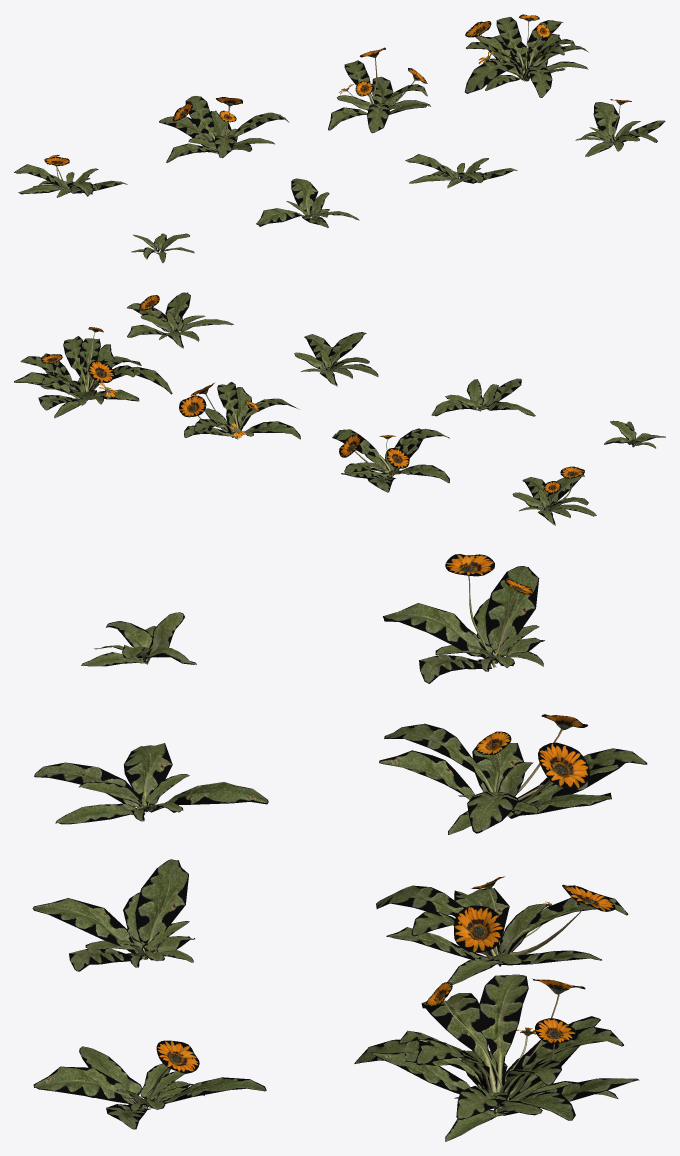
File: flower_gazania.glb
3 renders of one model, top to bottom at view 1: azimuth 30°, elevation 25°; view 2: azimuth 150°, elevation 25°; view 3: azimuth 270°, elevation 25°, orthographic. The views are drawn at different scales.
Visible parts, largest first — view 1: flower_gazania_h_LOD0, flower_gazania_f_LOD0, flower_gazania_g_LOD0, flower_gazania_d_LOD0, flower_gazania_b_LOD0, flower_gazania_e_LOD0, flower_gazania_c_LOD0, flower_gazania_a_LOD0; view 2: flower_gazania_h_LOD0, flower_gazania_g_LOD0, flower_gazania_f_LOD0, flower_gazania_d_LOD0, flower_gazania_e_LOD0, flower_gazania_c_LOD0, flower_gazania_b_LOD0, flower_gazania_a_LOD0; view 3: flower_gazania_h_LOD0, flower_gazania_f_LOD0, flower_gazania_g_LOD0, flower_gazania_e_LOD0, flower_gazania_c_LOD0, flower_gazania_d_LOD0, flower_gazania_b_LOD0, flower_gazania_a_LOD0.
Boxes of the visible parts, <box> form: flower_gazania_h_LOD0: <box>464,14,588,97</box>; flower_gazania_f_LOD0: <box>159,96,289,162</box>; flower_gazania_g_LOD0: <box>328,47,430,133</box>; flower_gazania_d_LOD0: <box>575,99,665,156</box>; flower_gazania_b_LOD0: <box>256,178,359,227</box>; flower_gazania_e_LOD0: <box>14,154,127,197</box>; flower_gazania_c_LOD0: <box>405,154,517,188</box>; flower_gazania_a_LOD0: <box>131,233,194,262</box>; flower_gazania_h_LOD0: <box>14,327,172,418</box>; flower_gazania_g_LOD0: <box>179,382,300,439</box>; flower_gazania_f_LOD0: <box>332,428,449,492</box>; flower_gazania_d_LOD0: <box>127,292,233,348</box>; flower_gazania_e_LOD0: <box>512,466,596,525</box>; flower_gazania_c_LOD0: <box>294,332,378,386</box>; flower_gazania_b_LOD0: <box>431,378,535,416</box>; flower_gazania_a_LOD0: <box>604,420,665,448</box>; flower_gazania_h_LOD0: <box>354,974,639,1141</box>; flower_gazania_f_LOD0: <box>379,714,647,834</box>; flower_gazania_g_LOD0: <box>376,876,628,984</box>; flower_gazania_e_LOD0: <box>383,554,544,683</box>; flower_gazania_c_LOD0: <box>32,859,194,971</box>; flower_gazania_d_LOD0: <box>33,1040,266,1129</box>; flower_gazania_b_LOD0: <box>34,743,268,824</box>; flower_gazania_a_LOD0: <box>81,612,196,666</box>.
Bounding box in the file's own units: 1.48 × 0.1656 × 0.7027.
1 material, 1 textured.
